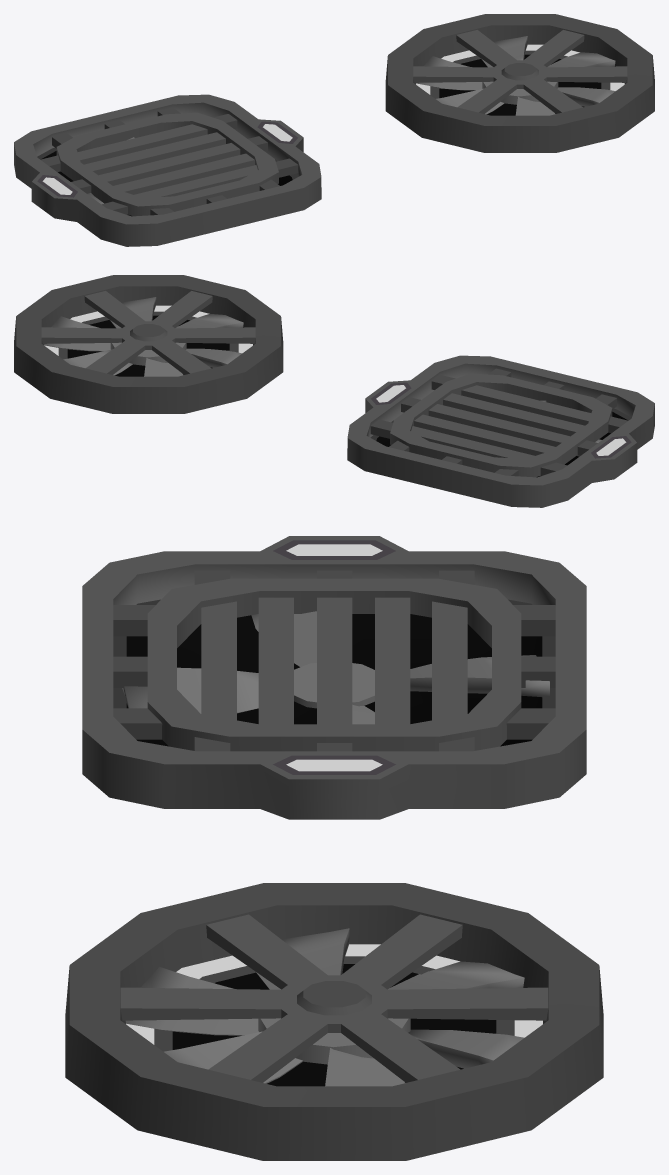
The model's file is Vent & Scrubber.fbx.
3 views of the same model, one above another, from view 1: azimuth 30°, elevation 25°; view 2: azimuth 150°, elevation 25°; view 3: azimuth 270°, elevation 25° (orthographic). The views are drawn at different scales.
Parts seen in each view (by area): view 1: FloorVent, AirScrubber, AirScrubber.Fan; view 2: FloorVent, AirScrubber, AirScrubber.Fan; view 3: FloorVent, AirScrubber, AirScrubber.Fan, FloorVent.Fan.
Part boxes in pixels (x1,y1,x2,y2): FloorVent: [14, 94, 321, 246]; AirScrubber: [385, 14, 654, 152]; AirScrubber.Fan: [416, 36, 615, 115]; FloorVent: [347, 355, 654, 507]; AirScrubber: [14, 275, 283, 413]; AirScrubber.Fan: [44, 297, 243, 376]; FloorVent: [82, 536, 586, 819]; AirScrubber: [65, 883, 603, 1160]; AirScrubber.Fan: [125, 928, 524, 1086]; FloorVent.Fan: [122, 611, 549, 724].
Bounding box in the file's own units: 1.68 × 0.0762 × 0.6614.
